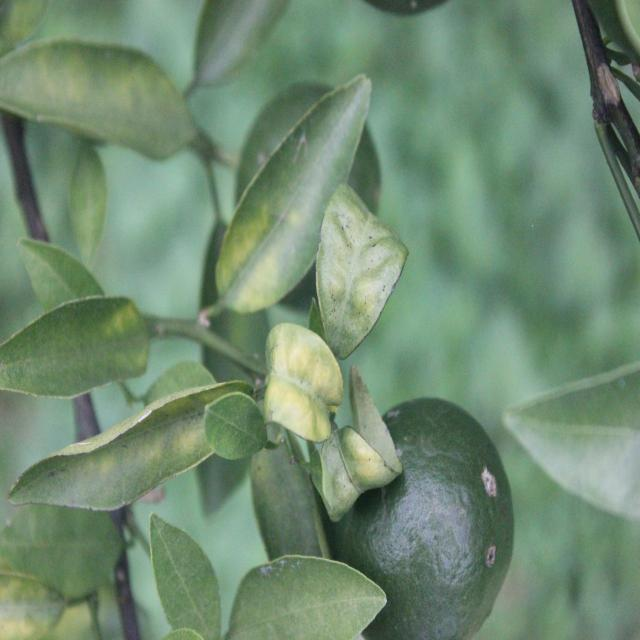blackspot: (325, 209, 390, 342), (94, 406, 197, 484), (268, 345, 341, 430), (334, 439, 379, 502)
